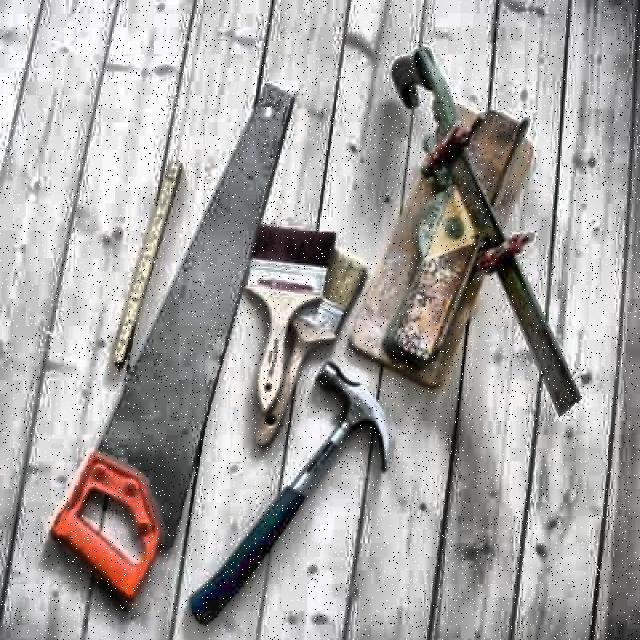hammer: (188, 359, 398, 627)
